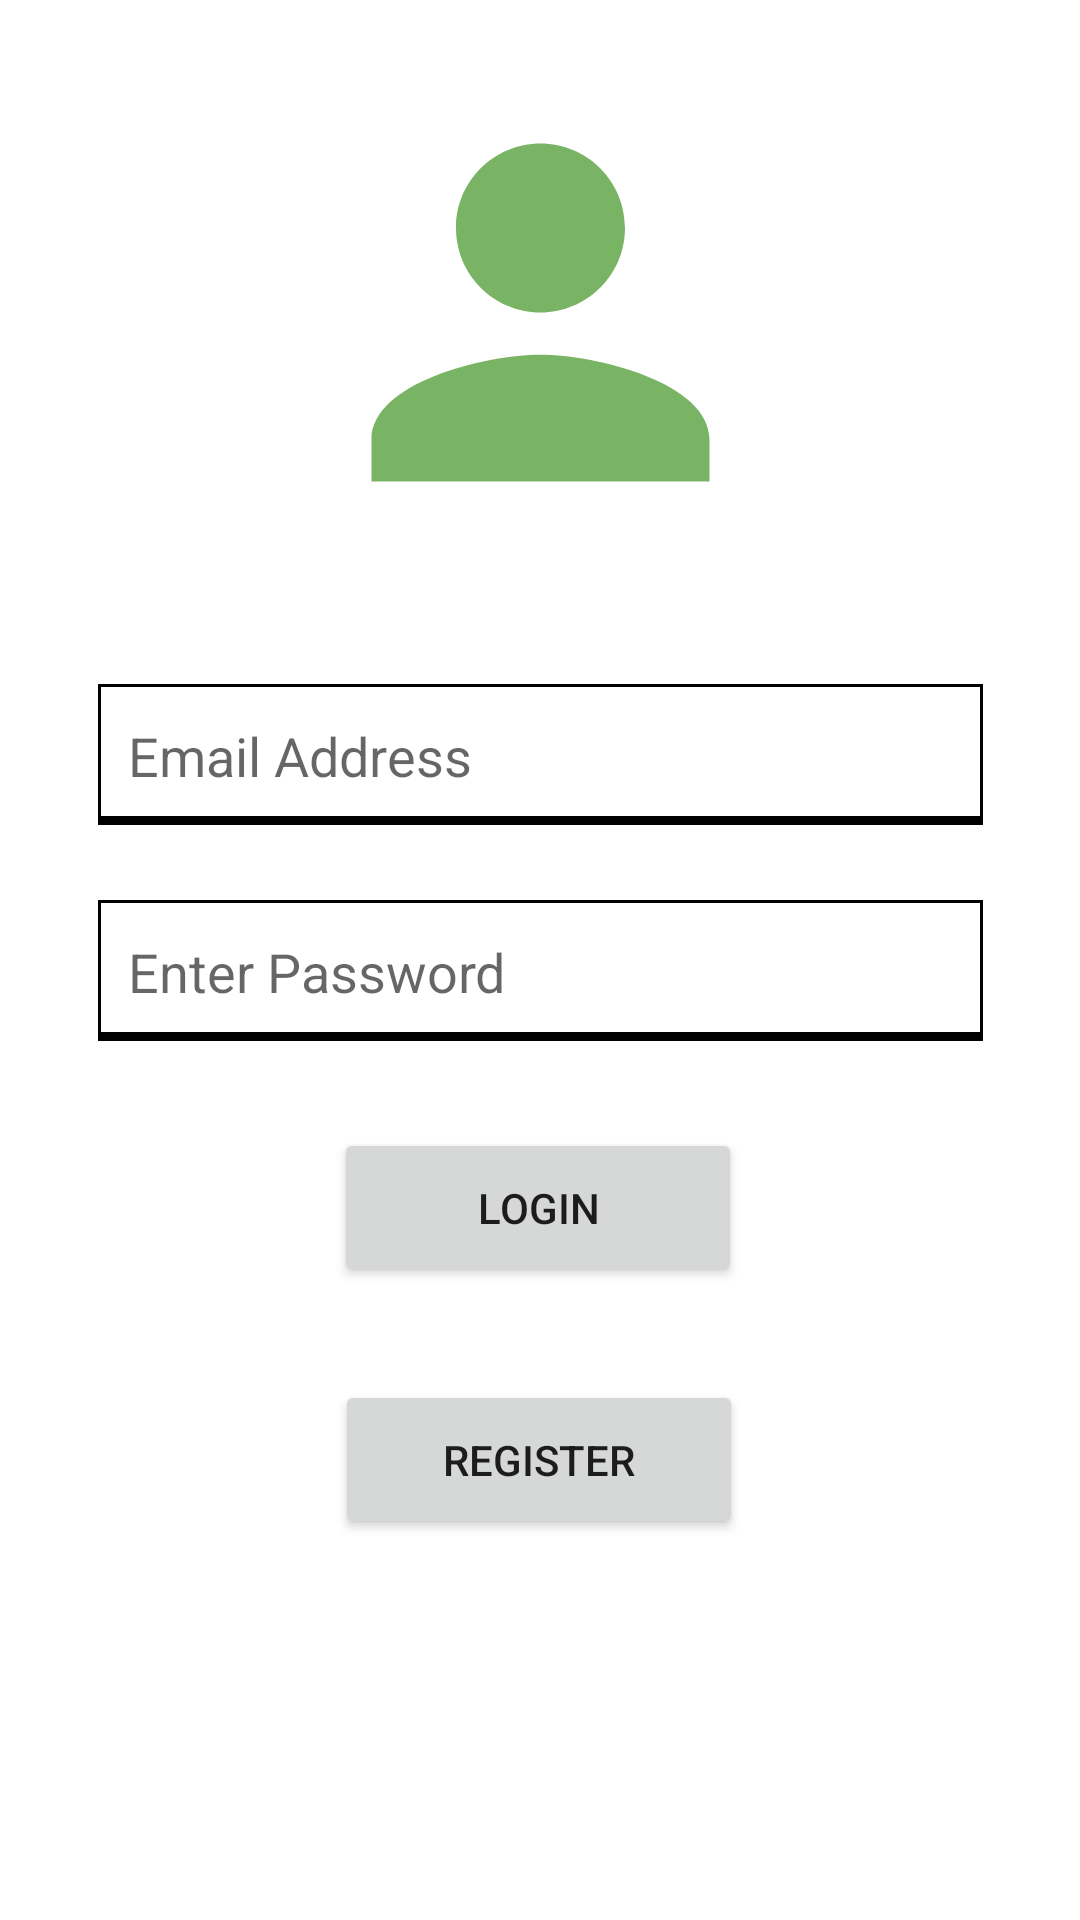

Named icons in this screenshot (1080 × 1920) and their centers, [x,y]:
person: [540,312]
